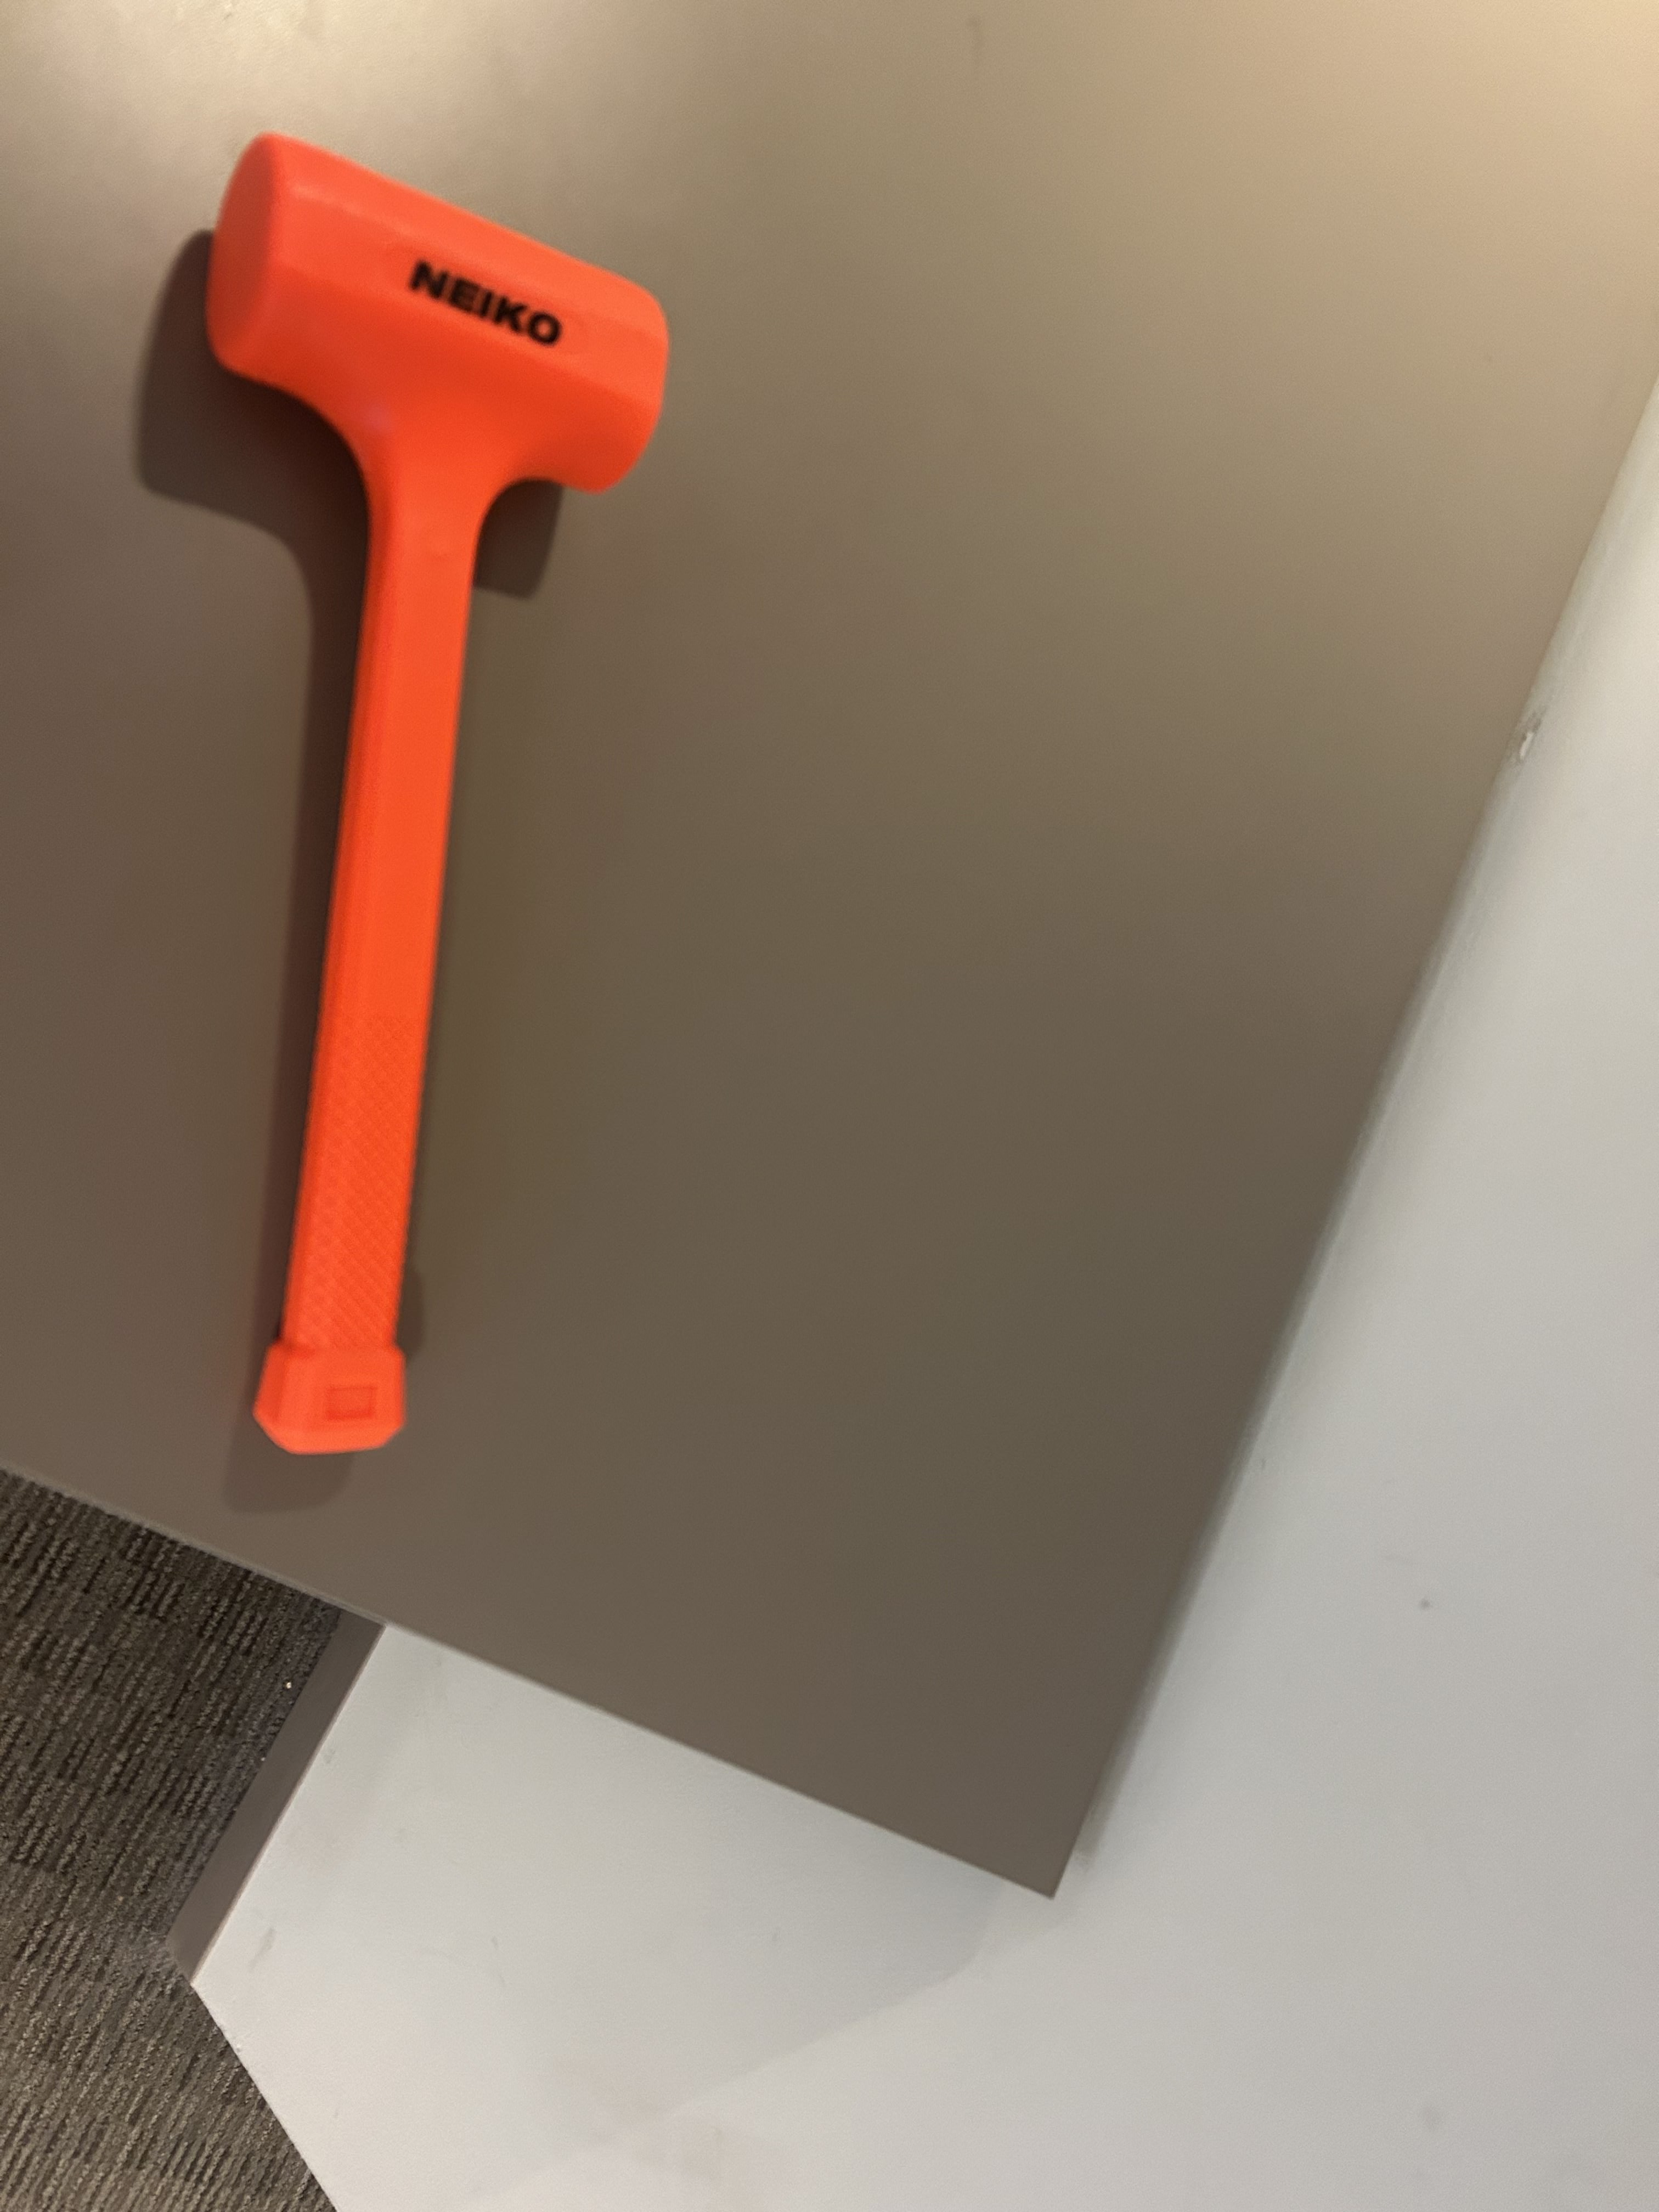Hammer: (110, 85, 701, 1494)
